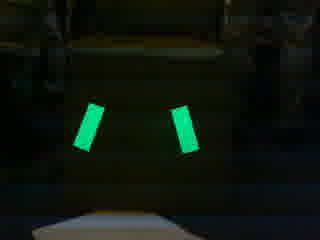target: (70, 99, 202, 154)
